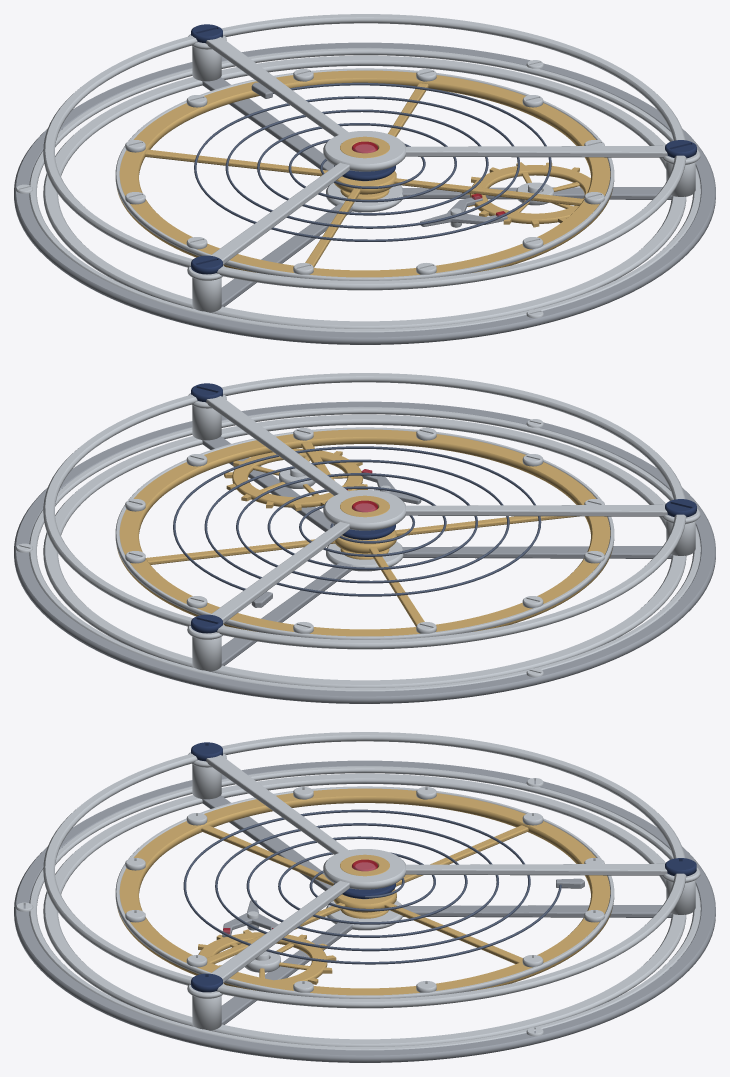
File: kimi_tourbillon_v1.glb
3 renders of one model, top to bottom at view 1: azimuth 30°, elevation 25°; view 2: azimuth 150°, elevation 25°; view 3: azimuth 270°, elevation 25°, orthographic.
Visible parts, largest first — view 1: tb_fixed_seat_ring, tb_lower_cage_ring, tb_upper_cage_ring, tb_balance_rim, tb_fixed_inner_chamfer, tb_hairspring_spiral, tb_balance_highlight, tb_upper_cage_arm_2, tb_escape_rim, tb_upper_cage_arm_0, tb_upper_cage_arm_1, tb_upper_cage_hub (+14 smaller); view 2: tb_fixed_seat_ring, tb_lower_cage_ring, tb_upper_cage_ring, tb_balance_rim, tb_fixed_inner_chamfer, tb_hairspring_spiral, tb_balance_highlight, tb_upper_cage_arm_1, tb_lower_cage_arm_1, tb_upper_cage_arm_2, tb_escape_rim, tb_upper_cage_arm_0 (+12 smaller); view 3: tb_fixed_seat_ring, tb_lower_cage_ring, tb_upper_cage_ring, tb_balance_rim, tb_fixed_inner_chamfer, tb_hairspring_spiral, tb_balance_highlight, tb_upper_cage_arm_0, tb_lower_cage_arm_0, tb_upper_cage_arm_1, tb_upper_cage_arm_2, tb_upper_cage_hub (+14 smaller).
Part boxes in pixels (<box>): tb_fixed_seat_ring: <box>14,42,715,344</box>; tb_lower_cage_ring: <box>43,55,686,328</box>; tb_upper_cage_ring: <box>43,14,686,290</box>; tb_balance_rim: <box>117,70,612,277</box>; tb_fixed_inner_chamfer: <box>29,48,700,332</box>; tb_hairspring_spiral: <box>194,82,551,241</box>; tb_balance_highlight: <box>115,68,614,280</box>; tb_upper_cage_arm_2: <box>406,145,668,157</box>; tb_escape_rim: <box>470,165,590,223</box>; tb_upper_cage_arm_0: <box>206,37,348,136</box>; tb_upper_cage_arm_1: <box>210,162,349,264</box>; tb_upper_cage_hub: <box>323,131,405,171</box>; tb_fixed_seat_ring: <box>14,401,715,703</box>; tb_lower_cage_ring: <box>43,414,686,687</box>; tb_upper_cage_ring: <box>43,373,686,649</box>; tb_balance_rim: <box>117,429,612,636</box>; tb_fixed_inner_chamfer: <box>29,407,700,691</box>; tb_hairspring_spiral: <box>173,446,541,596</box>; tb_balance_highlight: <box>115,427,614,639</box>; tb_upper_cage_arm_1: <box>406,504,668,516</box>; tb_lower_cage_arm_1: <box>402,546,672,558</box>; tb_upper_cage_arm_2: <box>206,396,348,495</box>; tb_escape_rim: <box>232,448,362,507</box>; tb_upper_cage_arm_0: <box>210,521,349,623</box>; tb_fixed_seat_ring: <box>14,760,715,1062</box>; tb_lower_cage_ring: <box>43,773,686,1046</box>; tb_upper_cage_ring: <box>43,732,686,1008</box>; tb_balance_rim: <box>117,788,612,995</box>; tb_fixed_inner_chamfer: <box>29,766,700,1050</box>; tb_hairspring_spiral: <box>183,809,561,964</box>; tb_balance_highlight: <box>115,786,614,998</box>; tb_upper_cage_arm_0: <box>406,863,668,875</box>; tb_lower_cage_arm_0: <box>402,905,671,917</box>; tb_upper_cage_arm_1: <box>206,755,348,854</box>; tb_upper_cage_arm_2: <box>210,880,349,982</box>; tb_upper_cage_hub: <box>323,849,405,889</box>.
Size of the model in its own units: 8.6 by 0.695 by 8.6.
